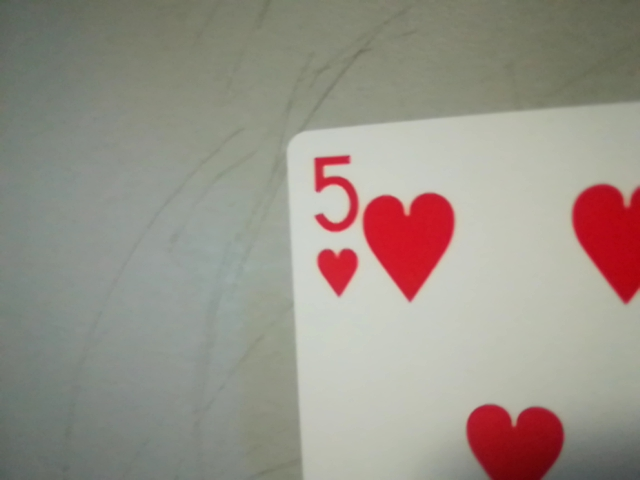hx 5: (298, 141, 365, 304)
